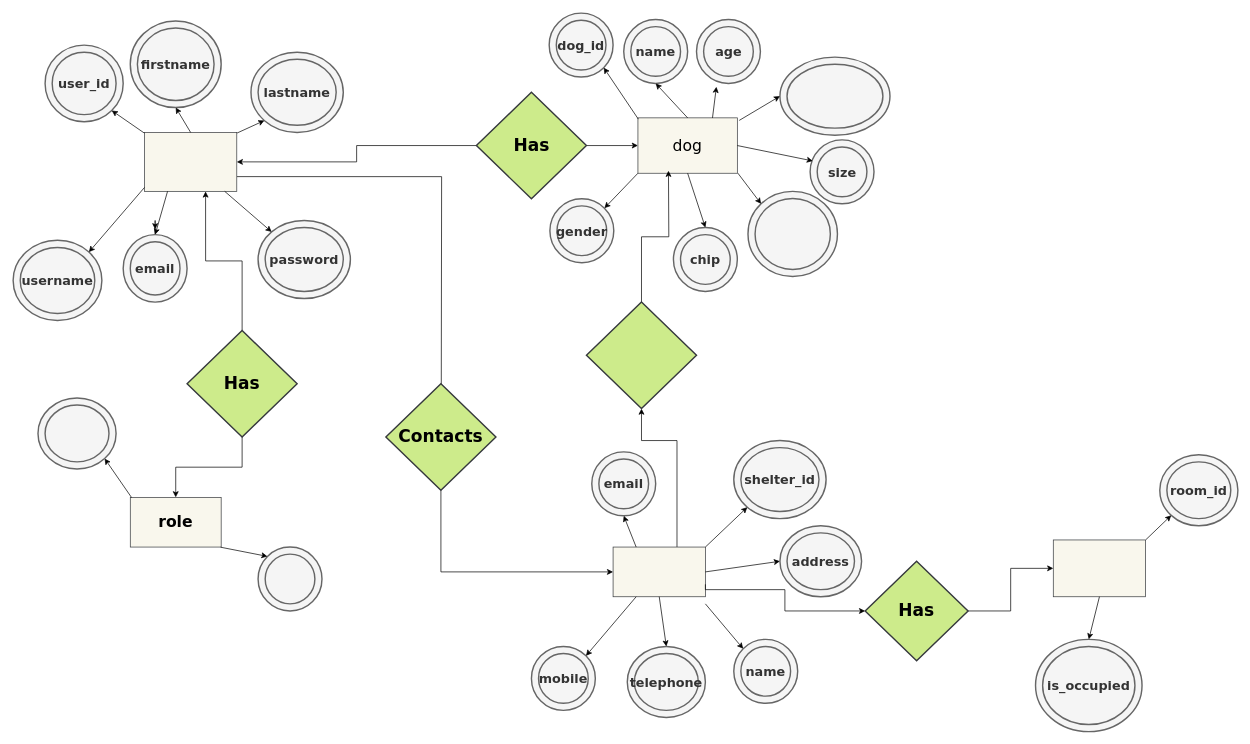
The diagram is 1250 pixels wide and 744 high, and some of its shapes have lost their labels. Here are the shapes that lost their labels. From the top down, the centre of each, then its label:
At (834,96): "shelter_dog".
At (190,161): "user".
At (792,233): "birthdate".
At (641,355): "Manages".
At (76,433): "role_id".
At (289,578): "Type".
At (658,571): "shelter".
At (1099,568): "rooms".
